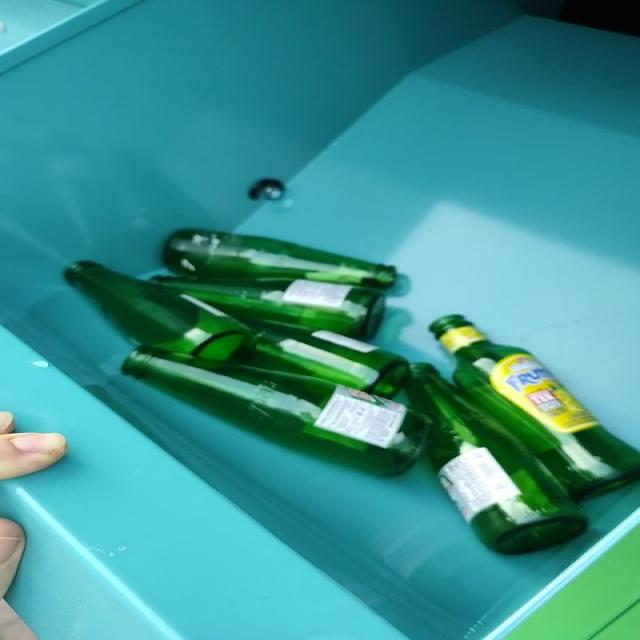glass: (67, 229, 640, 554)
